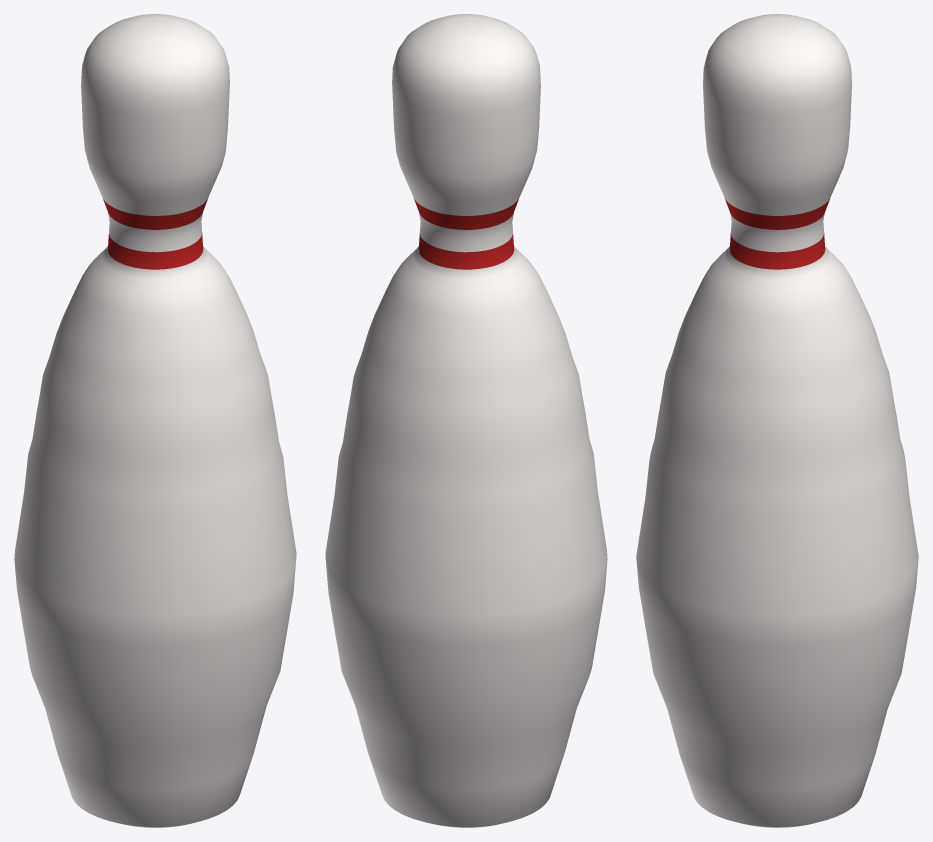
The model's file is bowlingPin.fbx.
3 renders of one model, left to right at view 1: azimuth 30°, elevation 25°; view 2: azimuth 150°, elevation 25°; view 3: azimuth 270°, elevation 25°, orthographic.
Visible parts, largest first — view 1: pCylinder1; view 2: pCylinder1; view 3: pCylinder1.
Part boxes in pixels (<box>): pCylinder1: <box>14,14,296,827</box>; pCylinder1: <box>325,14,607,827</box>; pCylinder1: <box>636,14,918,827</box>.
Bounding box in the file's own units: 2.78 × 8.48 × 2.78.
1 material, 1 textured.
